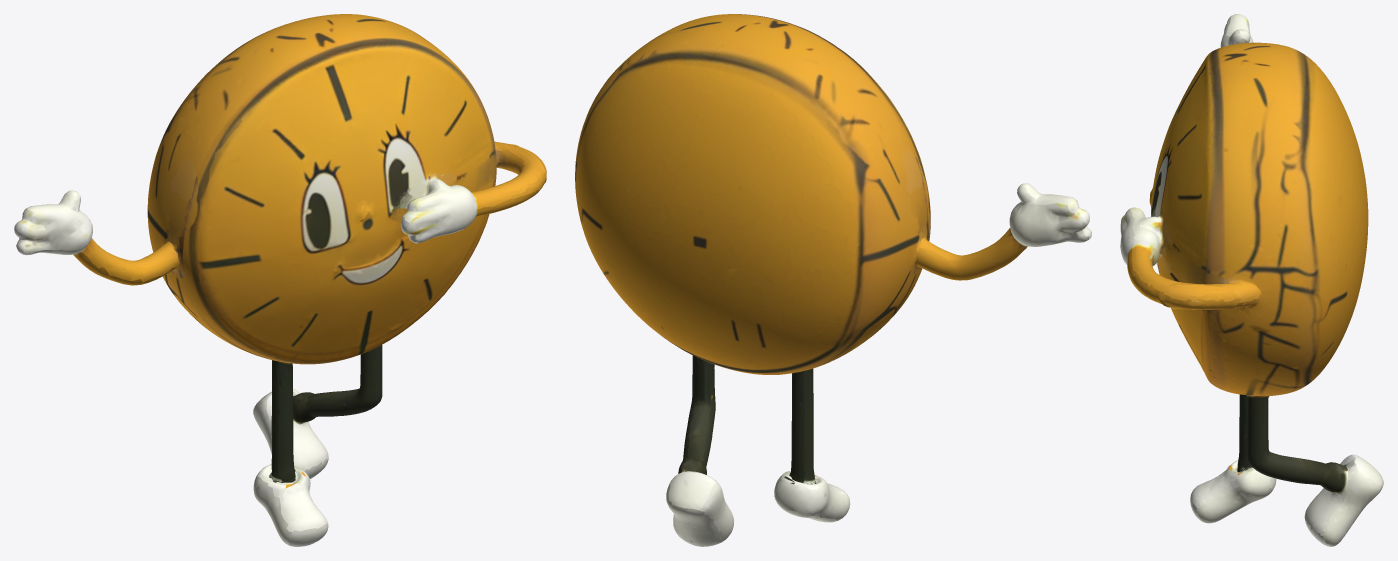
File: miss_minutes.glb
3 views of the same model, side by side, from view 1: azimuth 30°, elevation 25°; view 2: azimuth 150°, elevation 25°; view 3: azimuth 270°, elevation 25° (orthographic). The views are drawn at different scales.
Visible parts, largest first — view 1: world; view 2: world; view 3: world.
Boxes of the visible parts, bbox=[...] form: world: bbox=[14, 14, 546, 546]; world: bbox=[575, 14, 1091, 546]; world: bbox=[1120, 14, 1383, 546].
Bounding box in the file's own units: 2 × 1.86 × 0.9213.
1 material, 1 textured.
